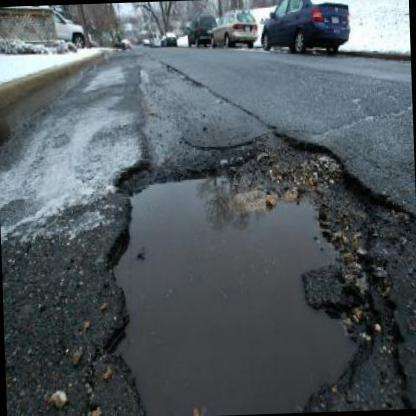pothole: (92, 122, 412, 416)
